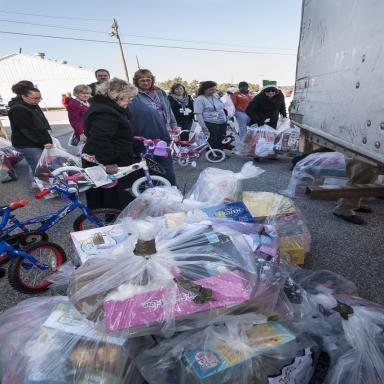box: (81, 223, 384, 383), (67, 228, 265, 333), (1, 290, 151, 383), (197, 164, 266, 222), (280, 150, 350, 200), (278, 117, 301, 152)
